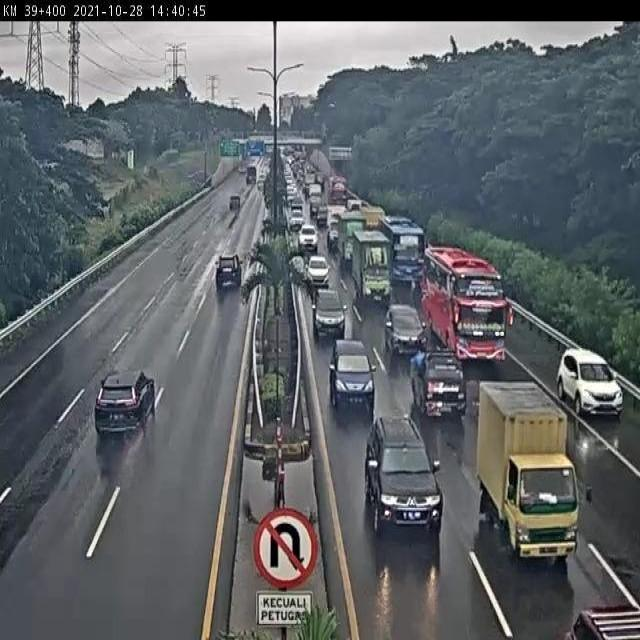Bus: (422, 247, 514, 365), (379, 218, 427, 280), (329, 177, 351, 208)
Car: (364, 421, 449, 549), (552, 344, 633, 423), (89, 368, 163, 447), (326, 341, 376, 422), (384, 302, 429, 354), (309, 289, 350, 339), (213, 251, 242, 298), (303, 256, 332, 286), (300, 224, 322, 253), (289, 211, 307, 231), (228, 193, 242, 213), (287, 190, 300, 207), (286, 175, 298, 186)
Truck: (477, 389, 582, 573), (409, 352, 470, 418), (356, 231, 392, 309), (340, 218, 367, 263), (308, 186, 325, 218), (245, 164, 257, 185)
